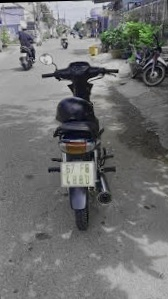Bien-so: (58, 157, 94, 183)
